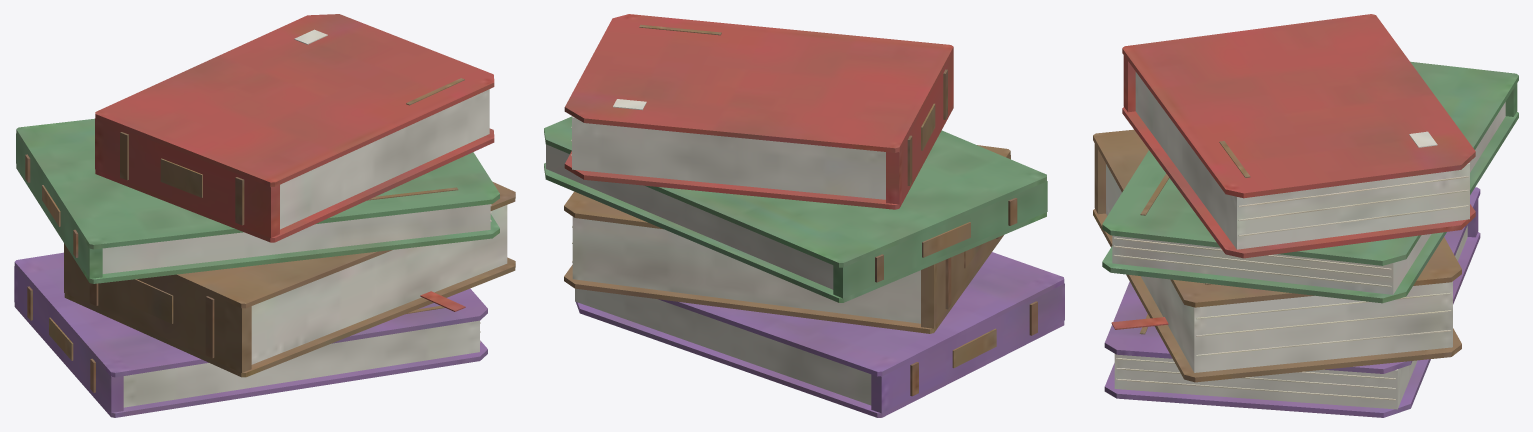
Rendered from Q15_book_piles_v3.glb.
The picture shows the model from 3 angles, left to right: view 1: azimuth 30°, elevation 25°; view 2: azimuth 150°, elevation 25°; view 3: azimuth 270°, elevation 25°; orthographic projection. The views are drawn at different scales.
Parts seen in each view (by area): view 1: Battered lower board; view 2: Battered lower board; view 3: Battered lower board.
Part boxes in pixels (<box>): Battered lower board: <box>14,14,515,417</box>; Battered lower board: <box>544,14,1064,417</box>; Battered lower board: <box>1093,14,1518,417</box>.
Bounding box in the file's own units: 0.4 × 0.2033 × 0.3263.
7 materials, 7 textured.
